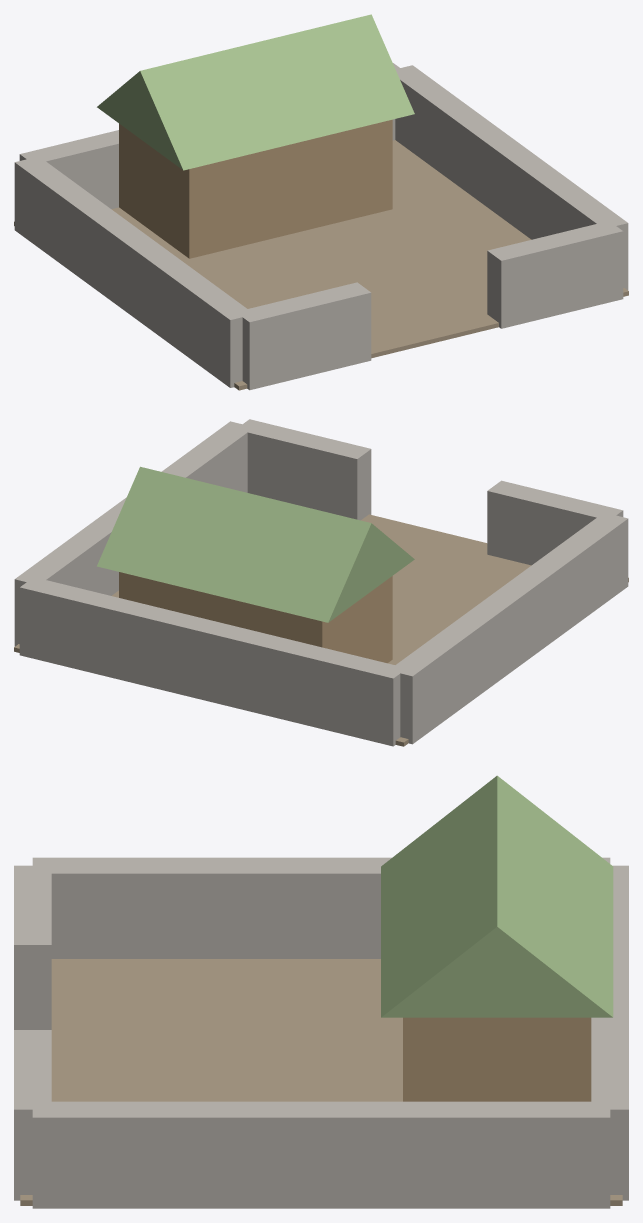
3 renders of one model, top to bottom at view 1: azimuth 30°, elevation 25°; view 2: azimuth 150°, elevation 25°; view 3: azimuth 270°, elevation 25°, orthographic. The views are drawn at different scales.
Visible parts, largest first — view 1: body; view 2: body; view 3: body.
Part boxes in pixels (bbox=[...]): body: bbox=[14, 14, 628, 390]; body: bbox=[14, 419, 628, 746]; body: bbox=[14, 775, 628, 1208].
Bounding box in the file's own units: 9.8 × 4 × 9.8.
